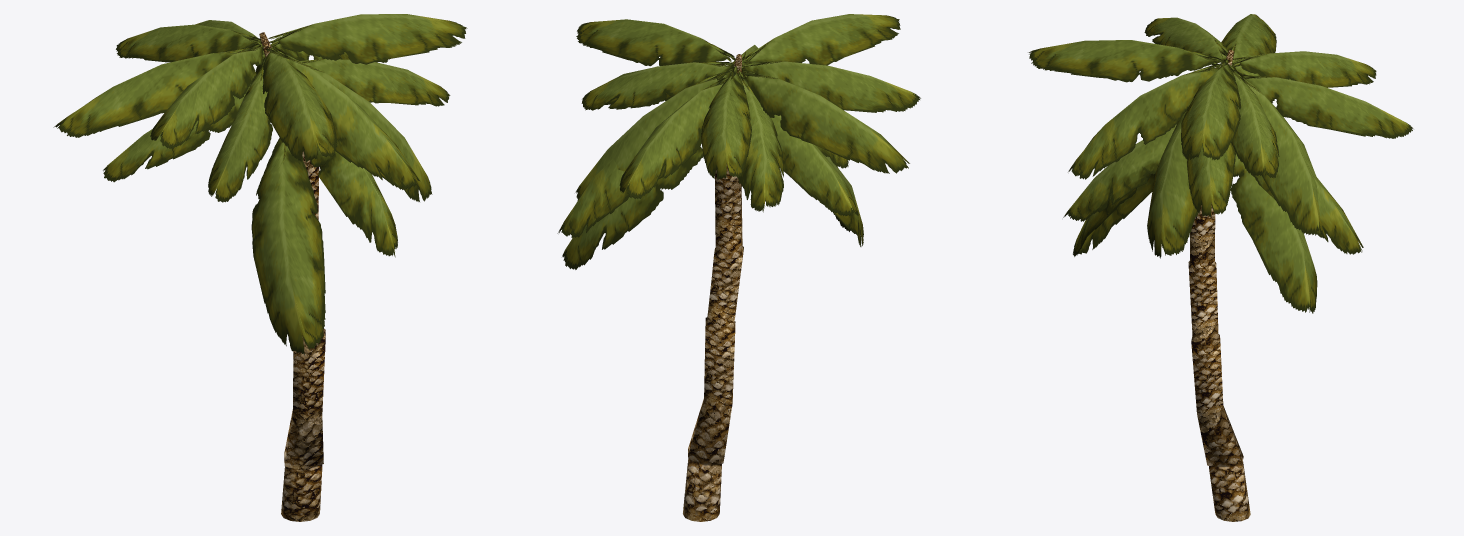
File: SM_TI_Palm_Tree_1.fbx
3 renders of one model, left to right at view 1: azimuth 30°, elevation 25°; view 2: azimuth 150°, elevation 25°; view 3: azimuth 270°, elevation 25°, orthographic. The views are drawn at different scales.
Parts seen in each view (by area): view 1: SM_TI_Palm_Tree_1; view 2: SM_TI_Palm_Tree_1; view 3: SM_TI_Palm_Tree_1.
Part boxes in pixels (box(x1,y1,x2,y2)): SM_TI_Palm_Tree_1: box(53, 14, 467, 521); SM_TI_Palm_Tree_1: box(557, 14, 920, 521); SM_TI_Palm_Tree_1: box(1028, 14, 1413, 521).
Bounding box in the file's own units: 9.42 × 9.12 × 9.87.
